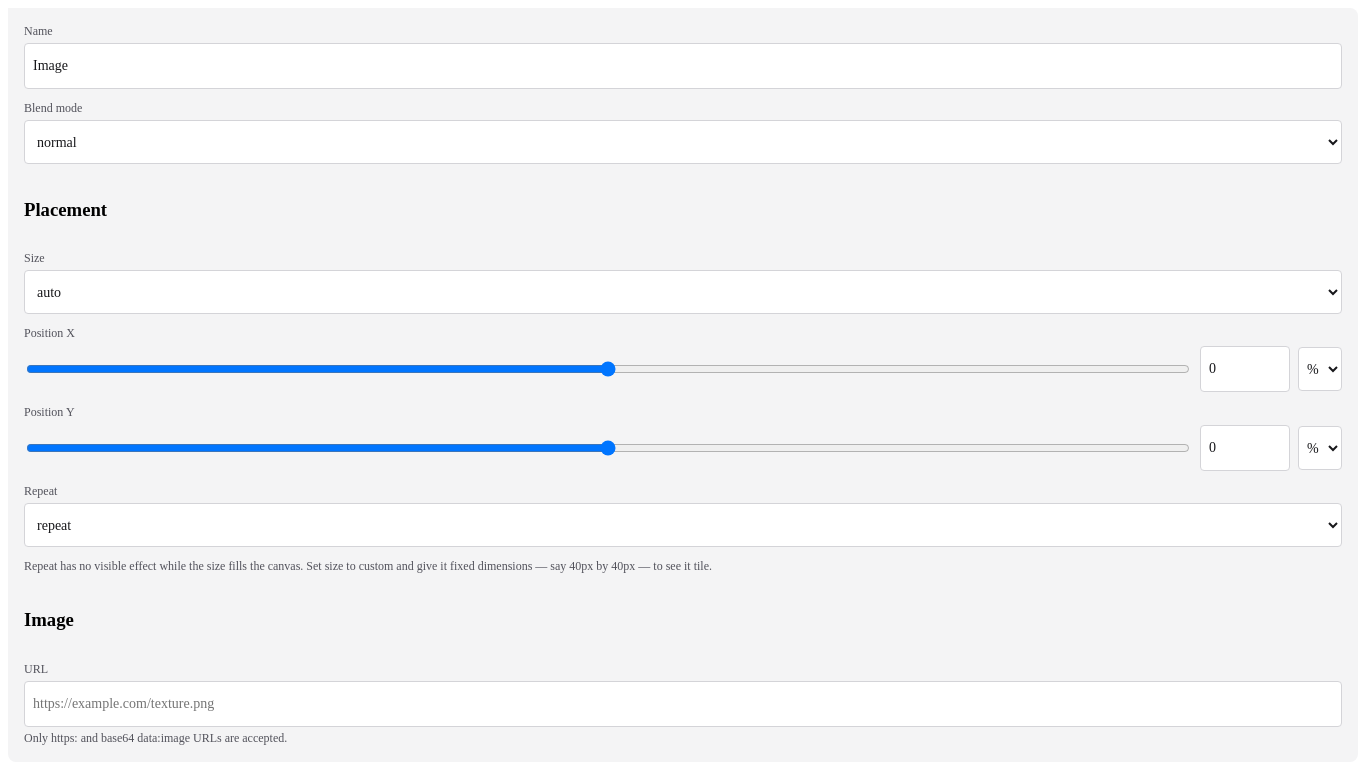
Test: LayerEditor › warns when an image URL would be rejected
The image size is (1366, 768).
In the field labelled "URL": (683, 704) top-left (24, 681), bottom-right (1342, 727), type "javascript:alert(1)"
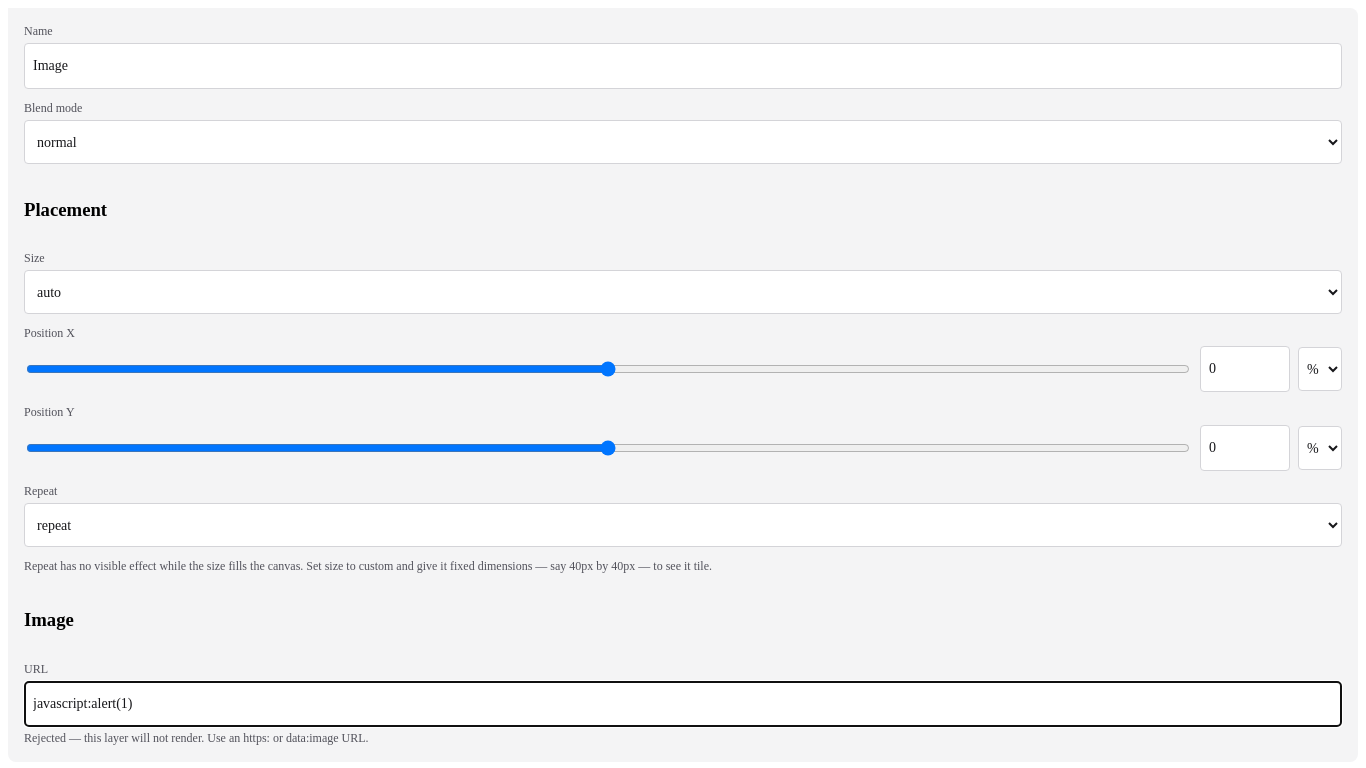
Now the text "Rejected" is shown, box top-left (24, 731), bottom-right (369, 745)
